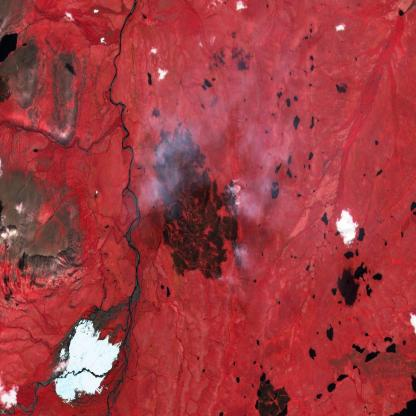fire: (147, 124, 243, 295)
